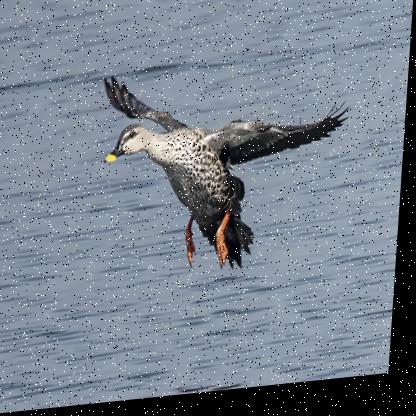Burung: (95, 59, 353, 287)
